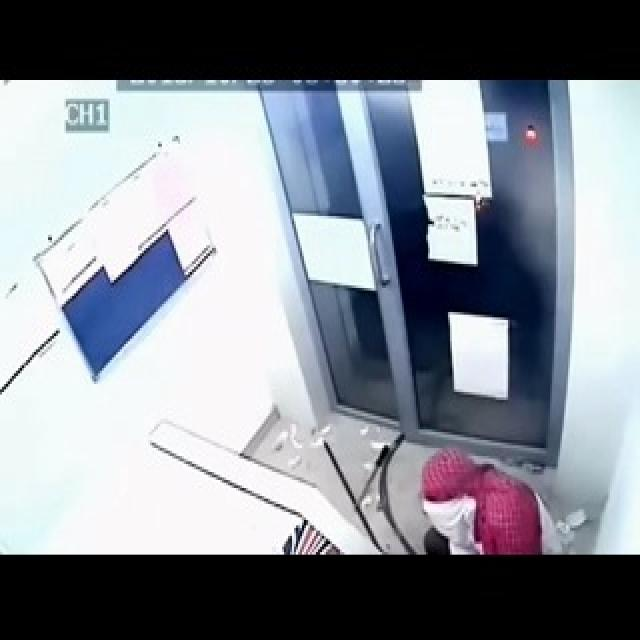thief: (400, 439, 565, 556)
